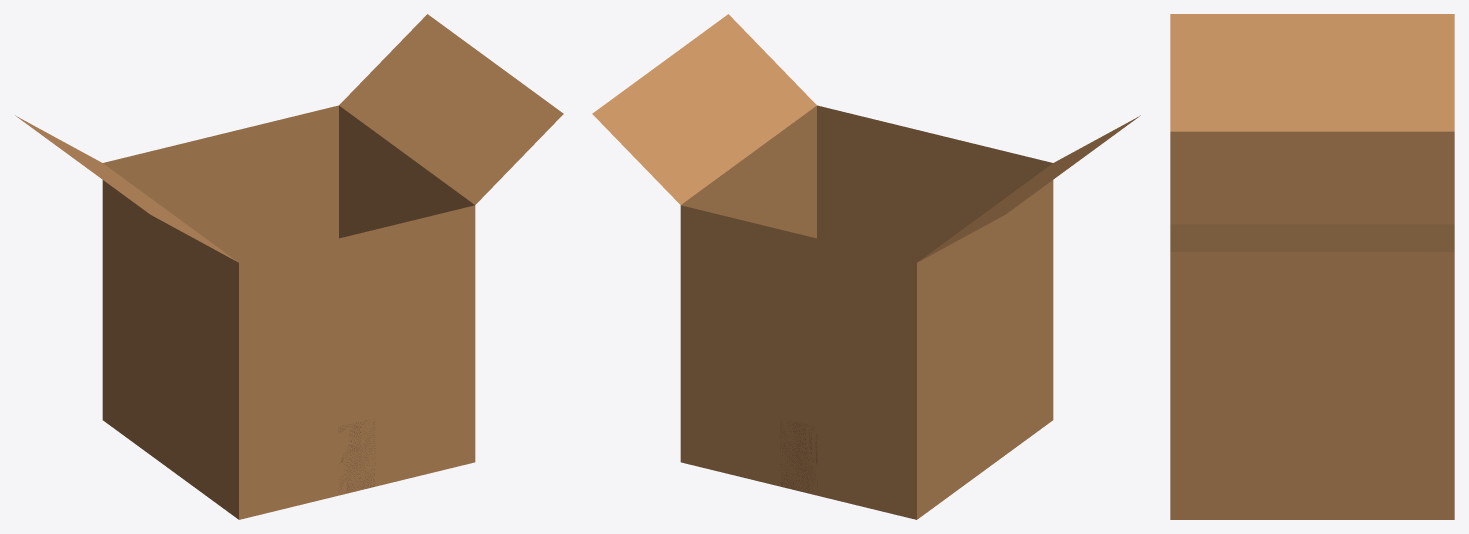
File: kitCardboardBoxOpen.glb
3 views of the same model, side by side, from view 1: azimuth 30°, elevation 25°; view 2: azimuth 150°, elevation 25°; view 3: azimuth 270°, elevation 25° (orthographic). The views are drawn at different scales.
Visible parts, largest first — view 1: kitCardboardBoxOpen_wood, kitCardboardBoxOpen_woodDark; view 2: kitCardboardBoxOpen_wood, kitCardboardBoxOpen_woodDark; view 3: kitCardboardBoxOpen_wood.
Part boxes in pixels (left/top/right/bottom): kitCardboardBoxOpen_wood: left=15, top=14, right=563, bottom=519; kitCardboardBoxOpen_woodDark: left=338, top=418, right=375, bottom=492; kitCardboardBoxOpen_wood: left=592, top=14, right=1140, bottom=519; kitCardboardBoxOpen_woodDark: left=780, top=418, right=817, bottom=494; kitCardboardBoxOpen_wood: left=1170, top=14, right=1454, bottom=519.
Size of the model in its own units: 0.7437 by 0.562 by 0.425.
